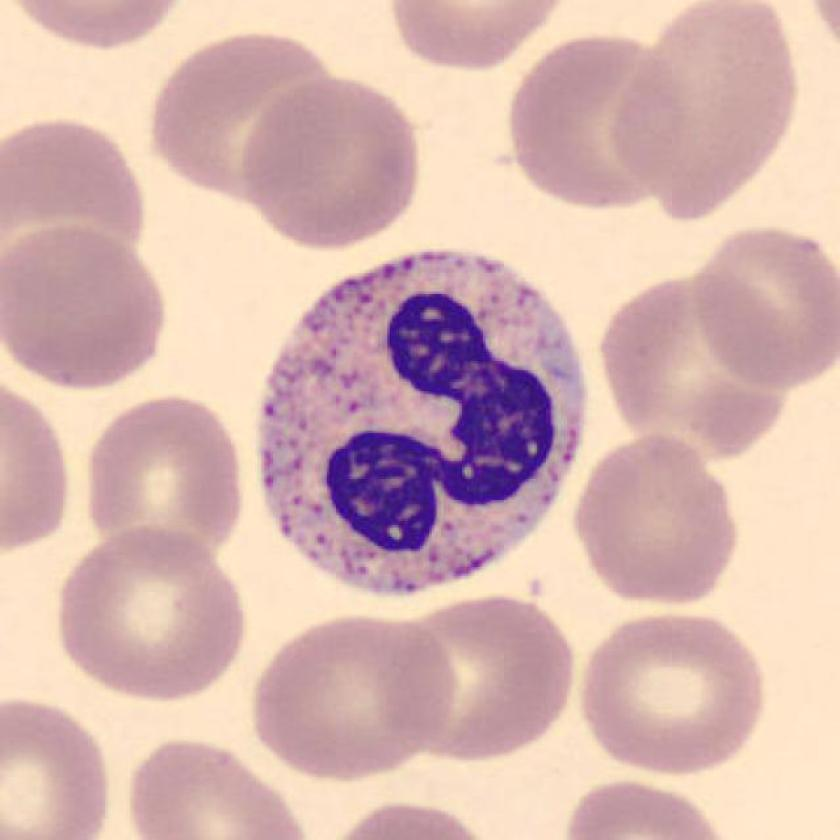neutrophil: (260, 252, 585, 589)
